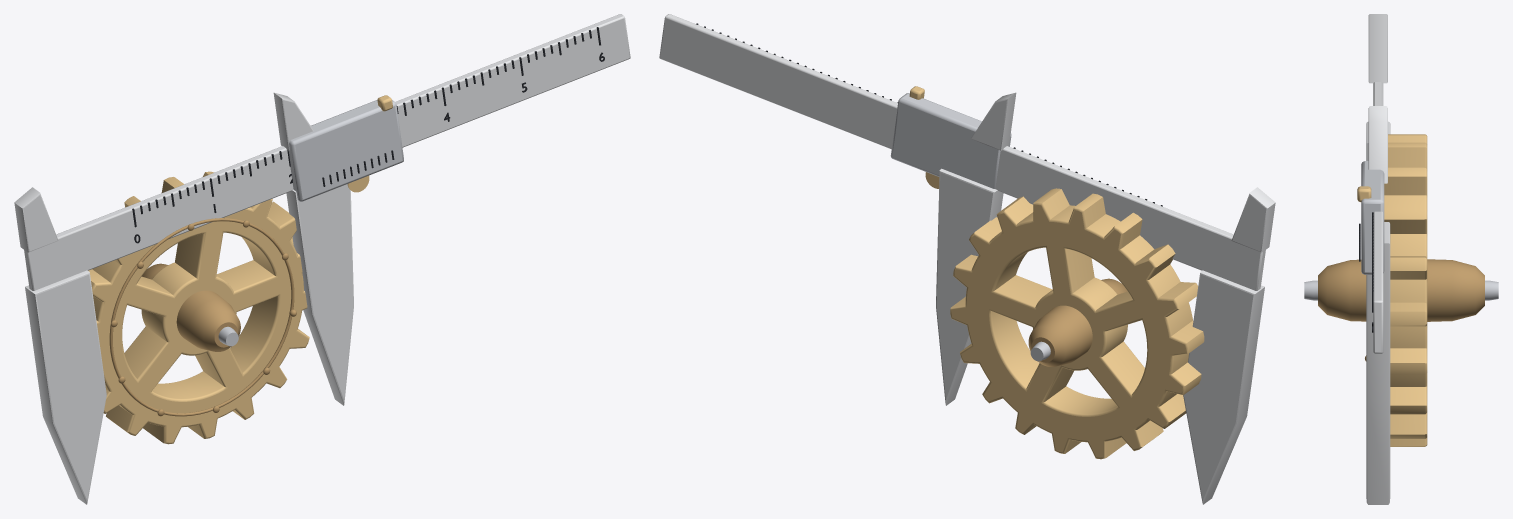
File: caliper.glb
3 views of the same model, side by side, from view 1: azimuth 30°, elevation 25°; view 2: azimuth 150°, elevation 25°; view 3: azimuth 270°, elevation 25° (orthographic). The views are drawn at different scales.
Visible parts, largest first — view 1: gear, beam, fjaw, mjaw, slider, hub, rimring, fjaw_up, mjaw_up; view 2: gear, beam, fjaw, mjaw, slider, hub, fjaw_up, mjaw_up; view 3: gear, hub, mjaw, beam, slider, fjaw_up, mjaw_up, axle.
Part boxes in pixels (<box>): gear: <box>88,171,309,444</box>; beam: <box>24,14,630,290</box>; fjaw: <box>25,270,106,504</box>; mjaw: <box>286,184,353,405</box>; slider: <box>288,100,403,201</box>; hub: <box>141,263,240,351</box>; rimring: <box>109,218,294,416</box>; fjaw_up: <box>14,187,58,252</box>; mjaw_up: <box>273,92,313,150</box>; gear: <box>950,188,1204,459</box>; beam: <box>659,14,1265,290</box>; fjaw: <box>1183,270,1264,504</box>; mjaw: <box>936,168,1003,405</box>; slider: <box>890,93,1011,188</box>; hub: <box>1028,278,1127,366</box>; fjaw_up: <box>1231,187,1275,252</box>; mjaw_up: <box>971,92,1016,150</box>; gear: <box>1384,134,1427,446</box>; hub: <box>1318,259,1484,321</box>; mjaw: <box>1366,222,1390,504</box>; beam: <box>1373,82,1383,353</box>; slider: <box>1361,161,1384,274</box>; fjaw_up: <box>1368,14,1387,83</box>; mjaw_up: <box>1368,106,1387,183</box>; axle: <box>1304,280,1498,300</box>.
Bounding box in the file's own units: 1.72 × 0.9654 × 0.42.
